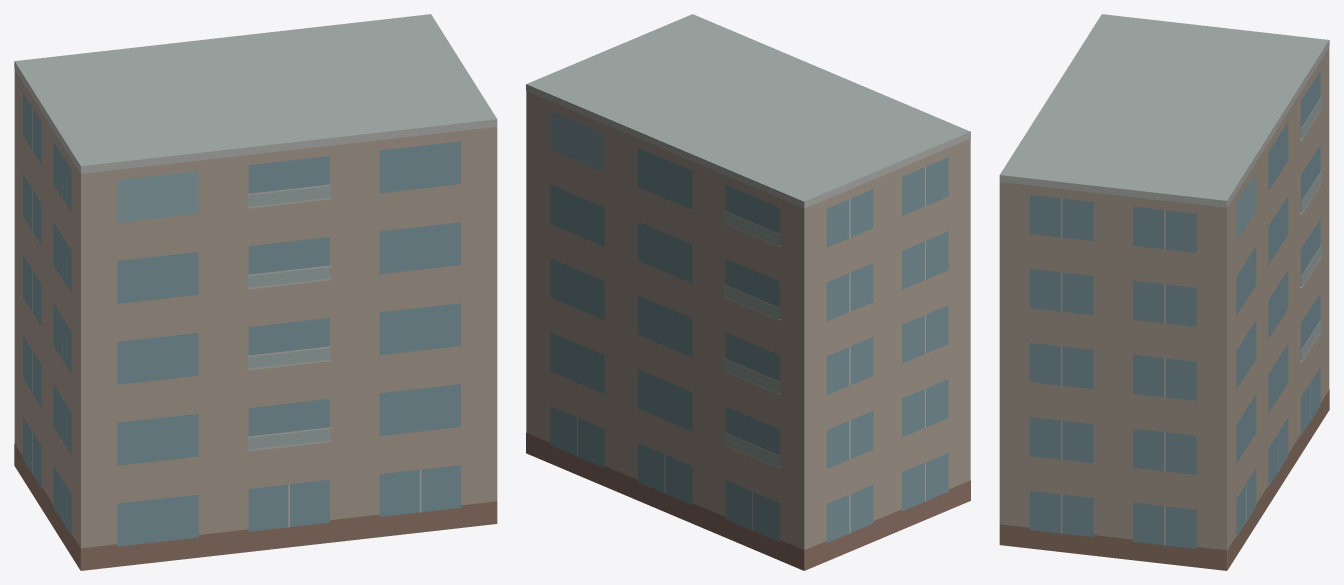
The model's file is survey-upis-32988732.glb.
3 renders of one model, left to right at view 1: azimuth 30°, elevation 25°; view 2: azimuth 150°, elevation 25°; view 3: azimuth 270°, elevation 25°, orthographic. The views are drawn at different scales.
Parts seen in each view (by area): view 1: survey-upis-32988732.tmp; view 2: survey-upis-32988732.tmp; view 3: survey-upis-32988732.tmp.
Part boxes in pixels (x1=…): survey-upis-32988732.tmp: x1=14, y1=14, x2=497, y2=570; survey-upis-32988732.tmp: x1=526, y1=14, x2=970, y2=570; survey-upis-32988732.tmp: x1=999, y1=14, x2=1329, y2=570.
Bounding box in the file's own units: 14.09 × 13 × 10.51.
